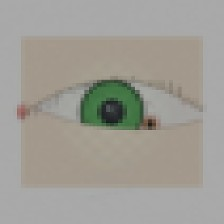foreign_body_visible: (127, 106, 174, 144)
